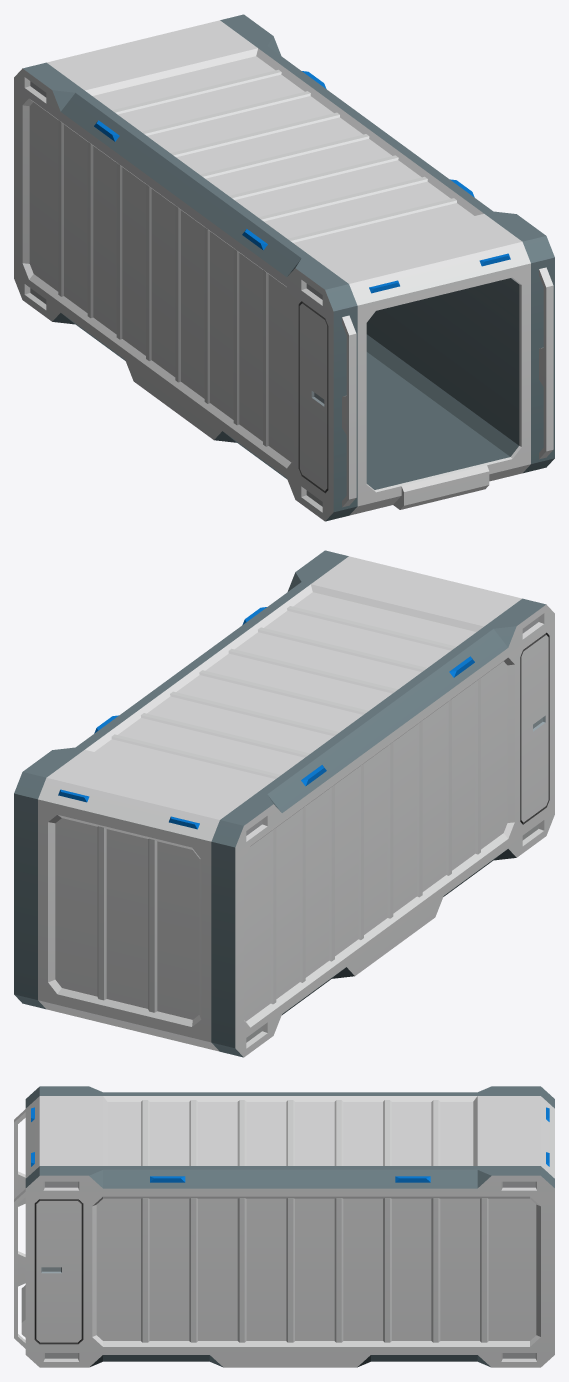
Rendered from Container_type_A_005.fbx.
3 views of the same model, one above another, from view 1: azimuth 30°, elevation 25°; view 2: azimuth 150°, elevation 25°; view 3: azimuth 270°, elevation 25° (orthographic). The views are drawn at different scales.
Visible parts, largest first — view 1: Container_type_A_005; view 2: Container_type_A_005; view 3: Container_type_A_005.
Boxes of the visible parts, x1,y1,x2,y2 form: Container_type_A_005: [14, 14, 554, 521]; Container_type_A_005: [14, 550, 554, 1057]; Container_type_A_005: [14, 1086, 554, 1367].
Bounding box in the file's own units: 240 × 613 × 240.
